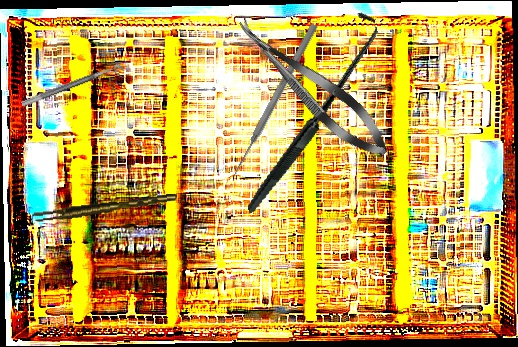Fixation Ring: (20, 62, 128, 116)
Hook Surgical: (206, 9, 415, 214)
Micro Scissor: (226, 7, 399, 169)
Pusher: (228, 21, 320, 180)
Tissue Forceps: (31, 193, 179, 223)
